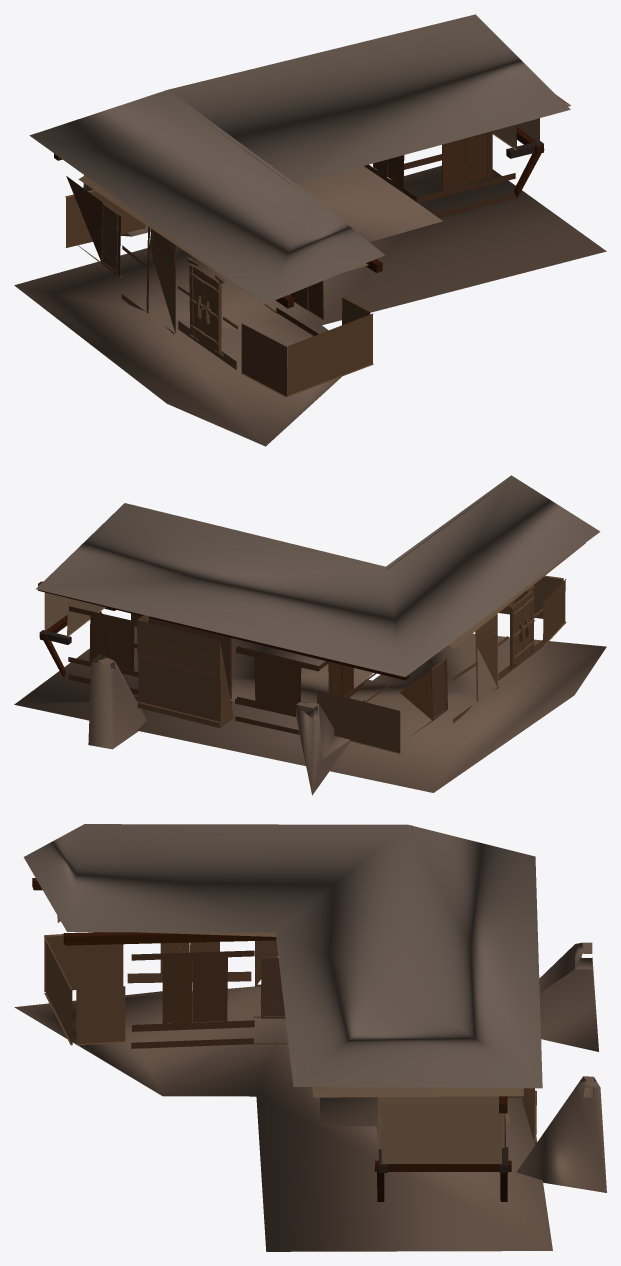
File: chogajip01_far.glb
3 views of the same model, one above another, from view 1: azimuth 30°, elevation 25°; view 2: azimuth 150°, elevation 25°; view 3: azimuth 270°, elevation 25° (orthographic). The views are drawn at different scales.
Parts seen in each view (by area): view 1: H_02_Roof_001_house_Re_Roof_01_0; view 2: H_02_Roof_001_house_Re_Roof_01_0; view 3: H_02_Roof_001_house_Re_Roof_01_0.
Boxes of the visible parts, x1,y1,x2,y2 form: H_02_Roof_001_house_Re_Roof_01_0: (14,14,606,446); H_02_Roof_001_house_Re_Roof_01_0: (14,475,606,795); H_02_Roof_001_house_Re_Roof_01_0: (14,824,606,1251).
Size of the model in its own units: 12.33 by 5.04 by 11.85.
